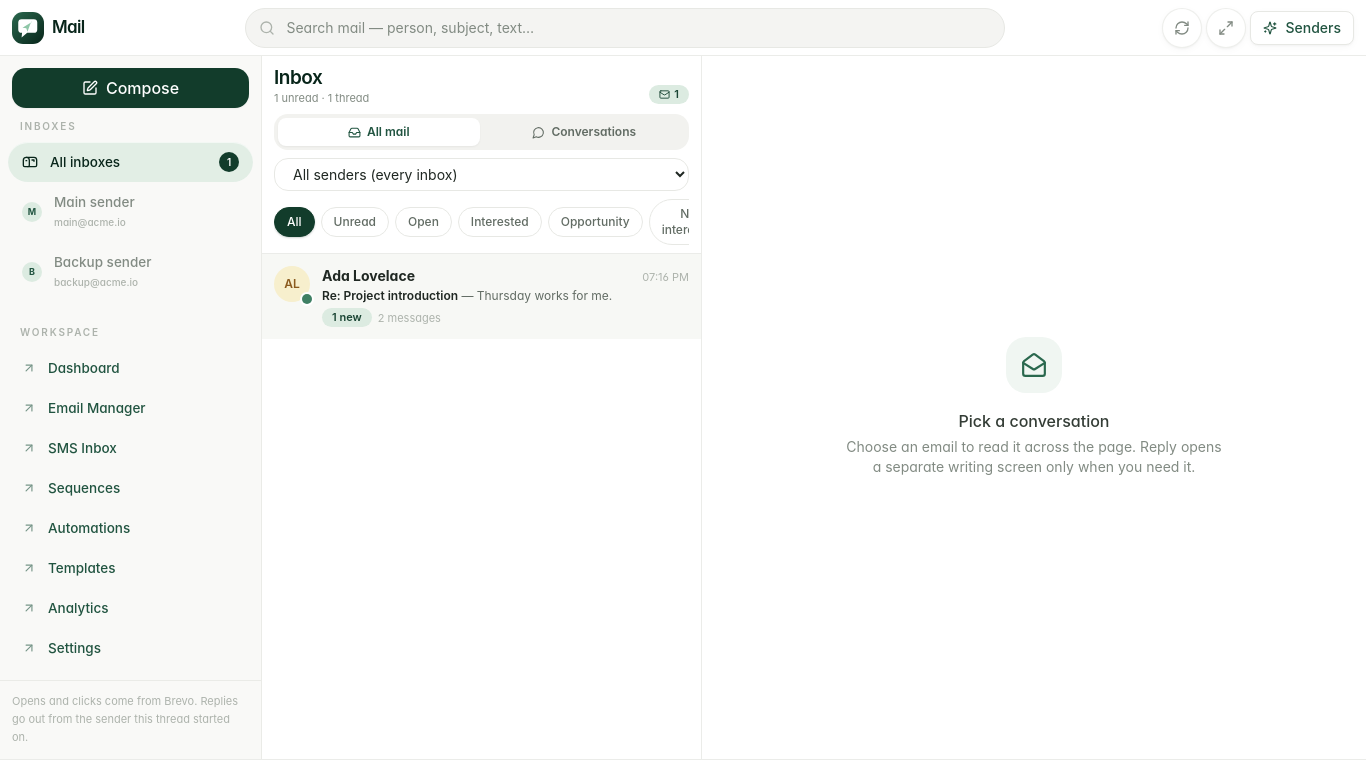
EmailInboxPage — reading first, reply on its own page › returns to the email without losing an unfinished reply
Step 1. Click the button "Ada Lovelace" → click(482, 297), box [262,254,701,339]
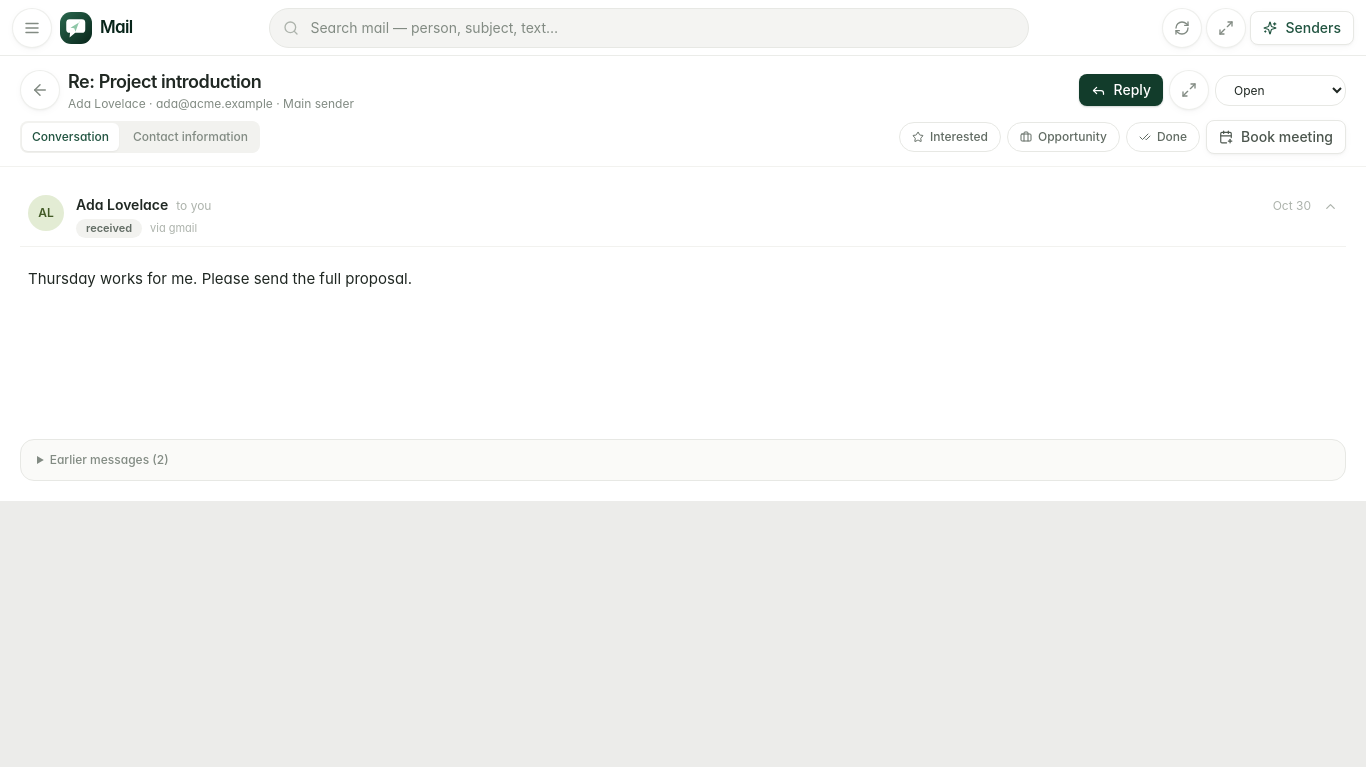
Step 2. Click the button "Reply" → click(1121, 90), box [1079,74,1163,106]
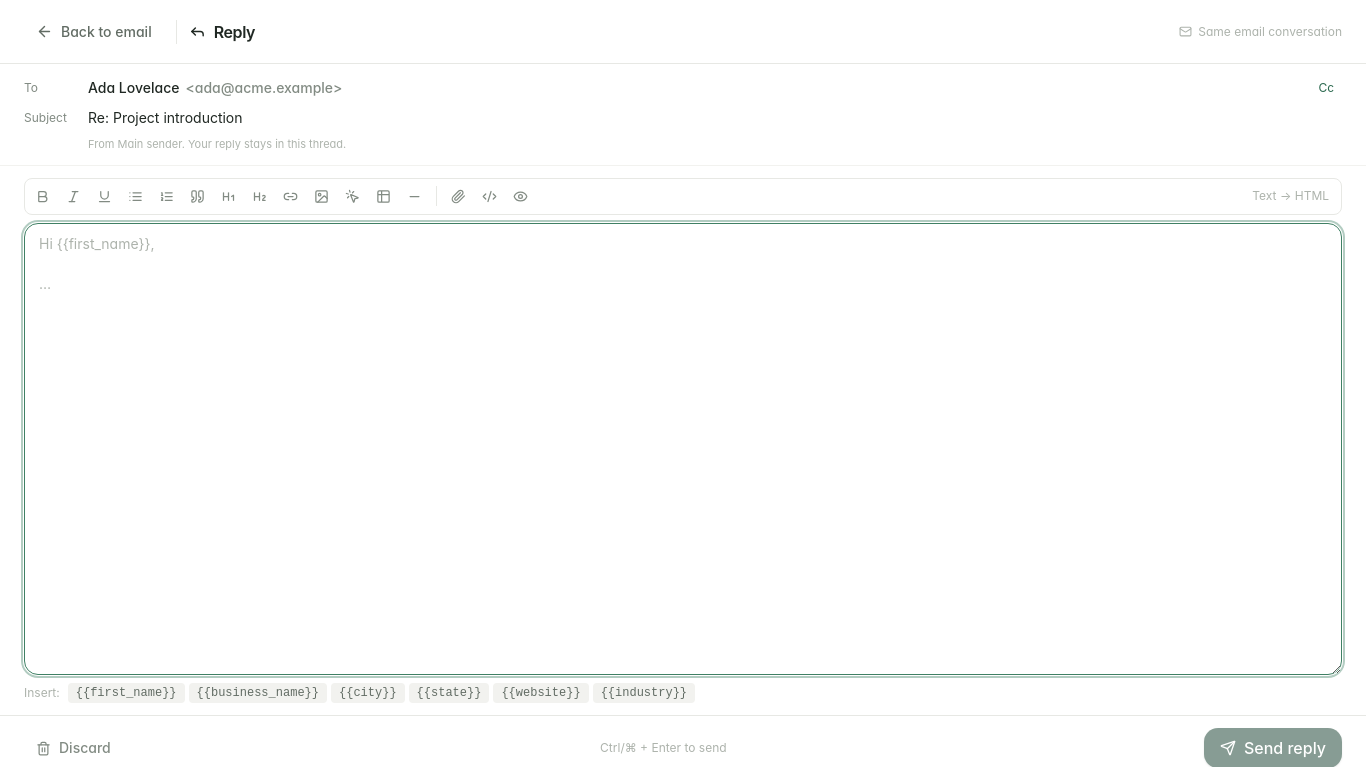
Step 3. Type "Here is the proposal." into the text box named "Reply message" → (683, 449), box [24,222,1342,675]
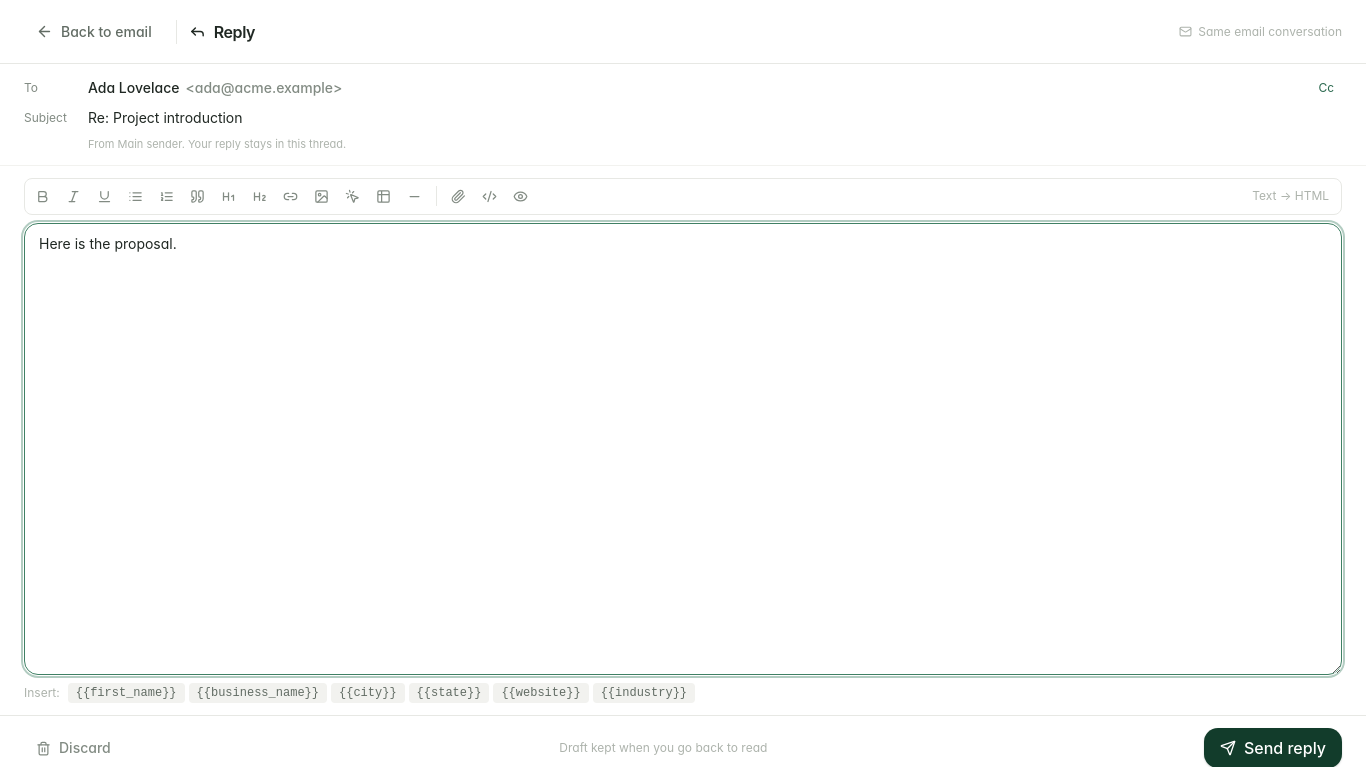
Step 4. Click the button "Back to email" → click(94, 32), box [24,16,164,48]
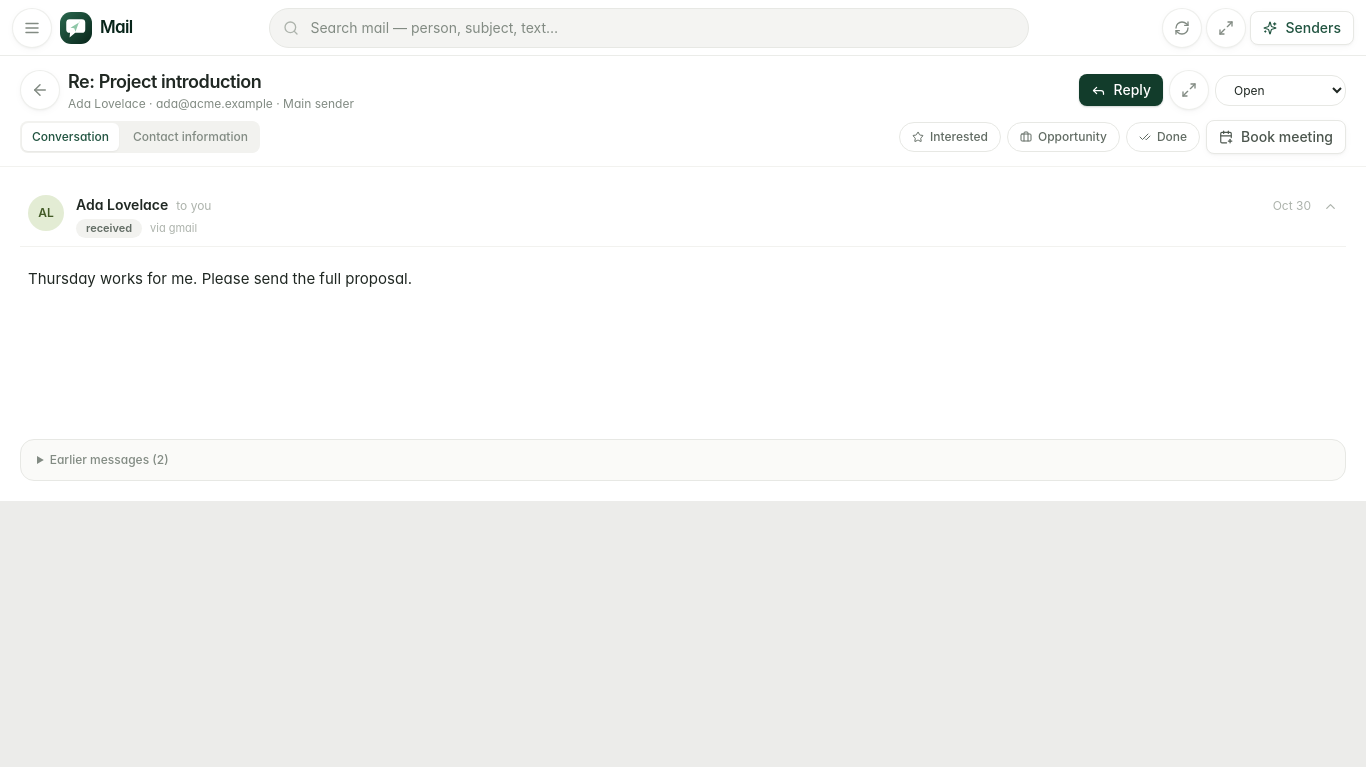
Check: the text "Thursday works for me. Please send the full proposal." is shown, box [28,269,412,288]
Step 5. Click the button "Reply" → click(1121, 90), box [1079,74,1163,106]
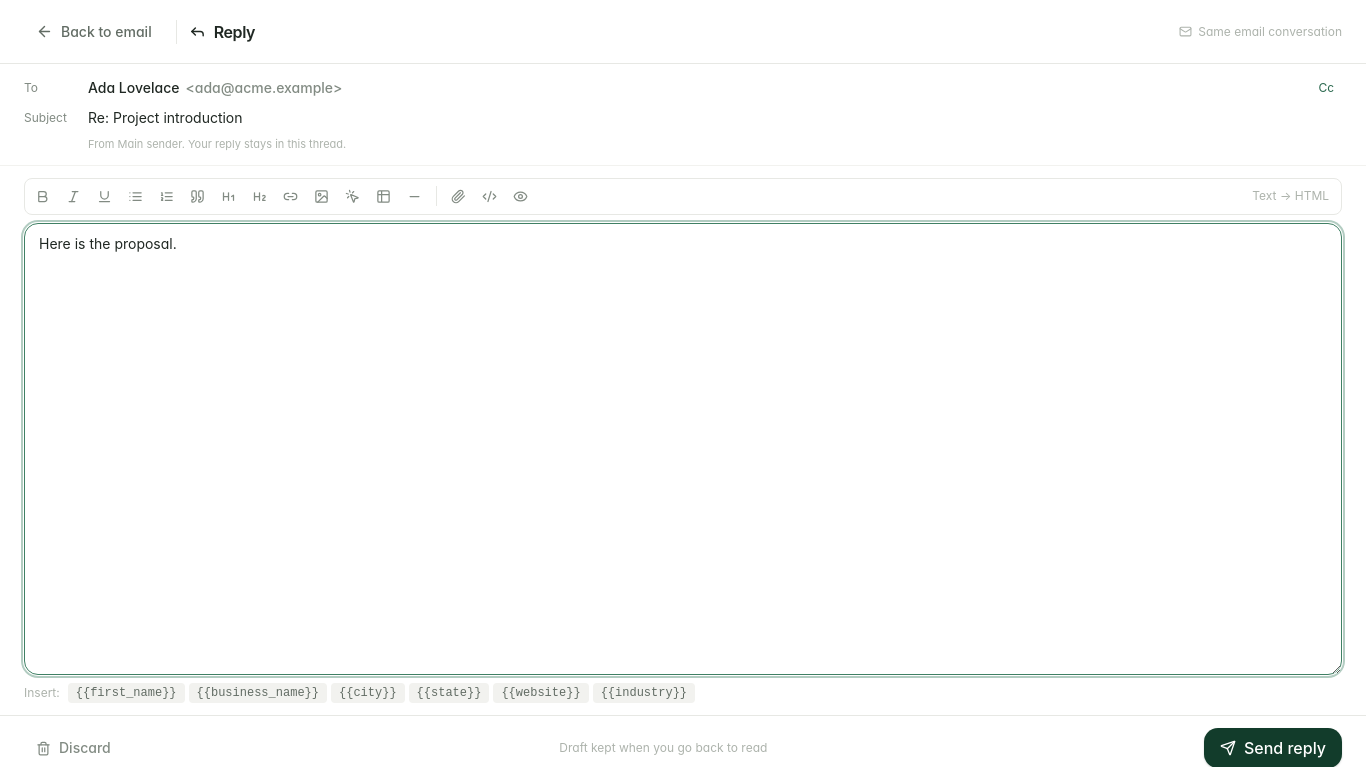
Check: the text box named "Reply message" holds "Here is the proposal.", box [24,222,1342,675]
